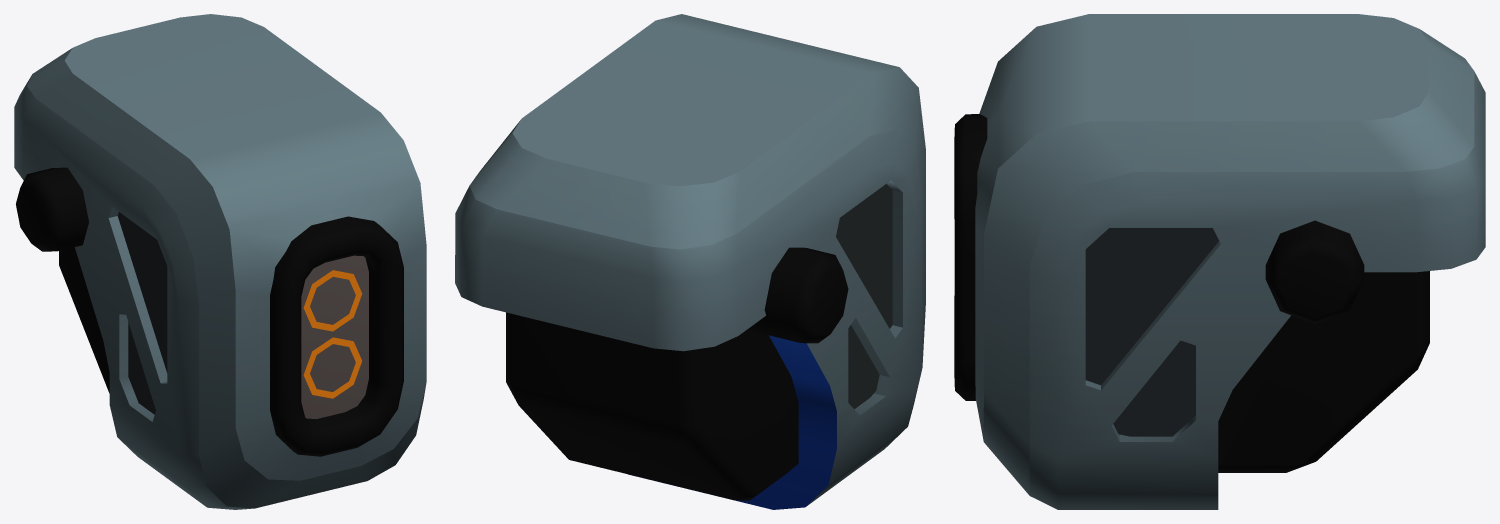
Rendered from Drone_002.fbx.
3 views of the same model, side by side, from view 1: azimuth 30°, elevation 25°; view 2: azimuth 150°, elevation 25°; view 3: azimuth 270°, elevation 25° (orthographic). The views are drawn at different scales.
Visible parts, largest first — view 1: Drone_002; view 2: Drone_002; view 3: Drone_002.
Boxes of the visible parts, x1,y1,x2,y2 form: Drone_002: (14, 14, 426, 509); Drone_002: (455, 14, 925, 509); Drone_002: (954, 14, 1485, 509).
Bounding box in the file's own units: 29.07 × 37.25 × 31.04.
